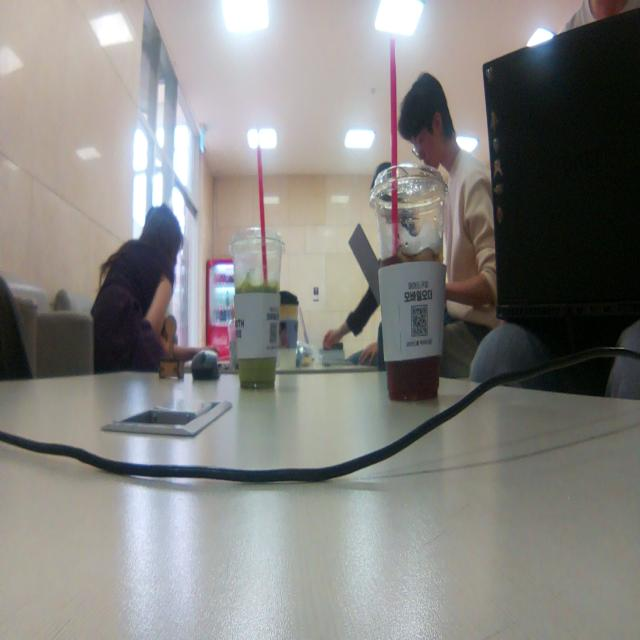target: (158, 315, 184, 380)
